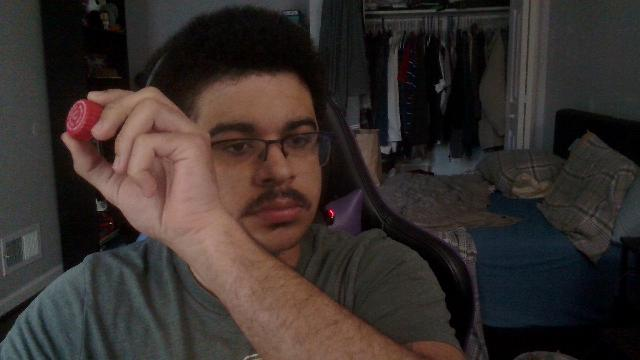cap: (66, 99, 102, 141)
